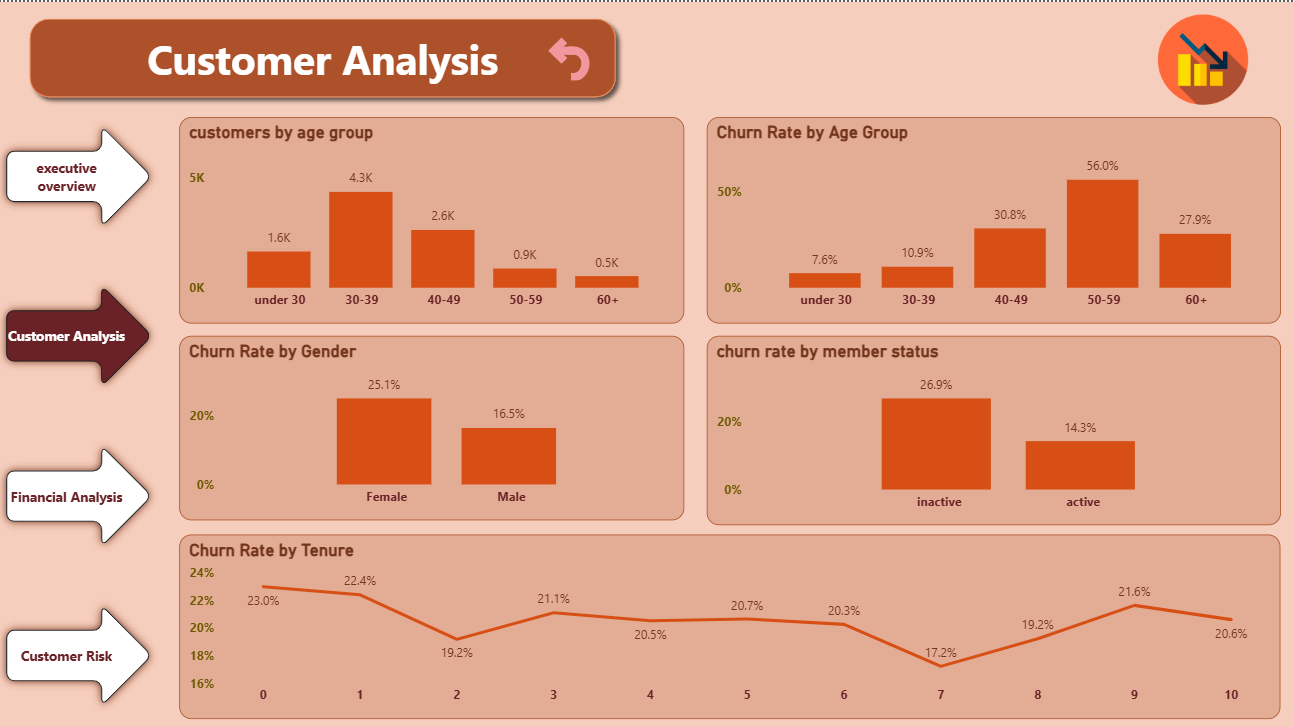

The page's visual inventory and layout, read from the dashboard file:
{"tool":"powerbi","page":{"name":"Customer Analysis","canvas":[1280,720],"ordinal":2},"visuals":[{"type":"shape","box":[21.6,7.2,594.4,95.2],"z":0},{"type":"clusteredColumnChart","title":"customers by age group","fields":{"Category":["Churn_Modelling.age group"],"Y":["CountNonNull(Churn_Modelling.CustomerId)"]},"box":[178.3,113.3,496.7,203.3],"z":1000},{"type":"clusteredColumnChart","title":"Churn Rate by Age Group","fields":{"Category":["Churn_Modelling.age group"],"Y":["Churn_Modelling.churn rate"]},"box":[696.7,113.3,565,203.3],"z":2000},{"type":"clusteredColumnChart","title":"Churn Rate by Gender","fields":{"Category":["Churn_Modelling.Gender"],"Y":["Churn_Modelling.churn rate"]},"box":[178.3,328.3,496.7,181.7],"z":3000},{"type":"lineChart","title":"Churn Rate by Tenure","fields":{"Y":["Churn_Modelling.churn rate"],"Category":["Churn_Modelling.Tenure"]},"box":[178.3,523.3,1083.3,181.7],"z":4000},{"type":"clusteredColumnChart","title":"churn rate by member status","fields":{"Y":["Churn_Modelling.churn rate"],"Category":["Churn_Modelling.member status"]},"box":[696.7,328.3,565,186.7],"z":5000},{"type":"pageNavigator","box":[0,113.3,160,591.7],"z":6000},{"type":"actionButton","box":[529.5,30.3,64.9,50.5],"z":7000}]}

Visuals, with their boxes in screenshot pixels (x1, y1, x2, y2), scaled from the page's 1280x720 canvas onto the 1294x727 screenshot:
shape: box(22, 7, 623, 103)
"customers by age group" clusteredColumnChart: box(180, 114, 682, 320)
"Churn Rate by Age Group" clusteredColumnChart: box(704, 114, 1275, 320)
"Churn Rate by Gender" clusteredColumnChart: box(180, 331, 682, 515)
"Churn Rate by Tenure" lineChart: box(180, 528, 1275, 712)
"churn rate by member status" clusteredColumnChart: box(704, 331, 1275, 520)
pageNavigator: box(0, 114, 162, 712)
actionButton: box(535, 31, 601, 82)
